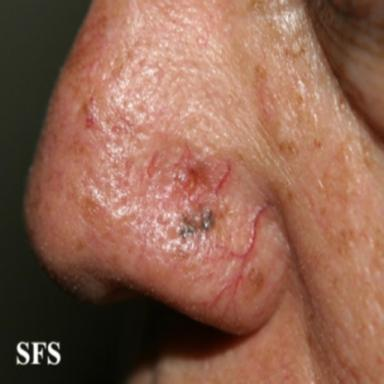basal-cell-carcinoma: (178, 206, 215, 240)
